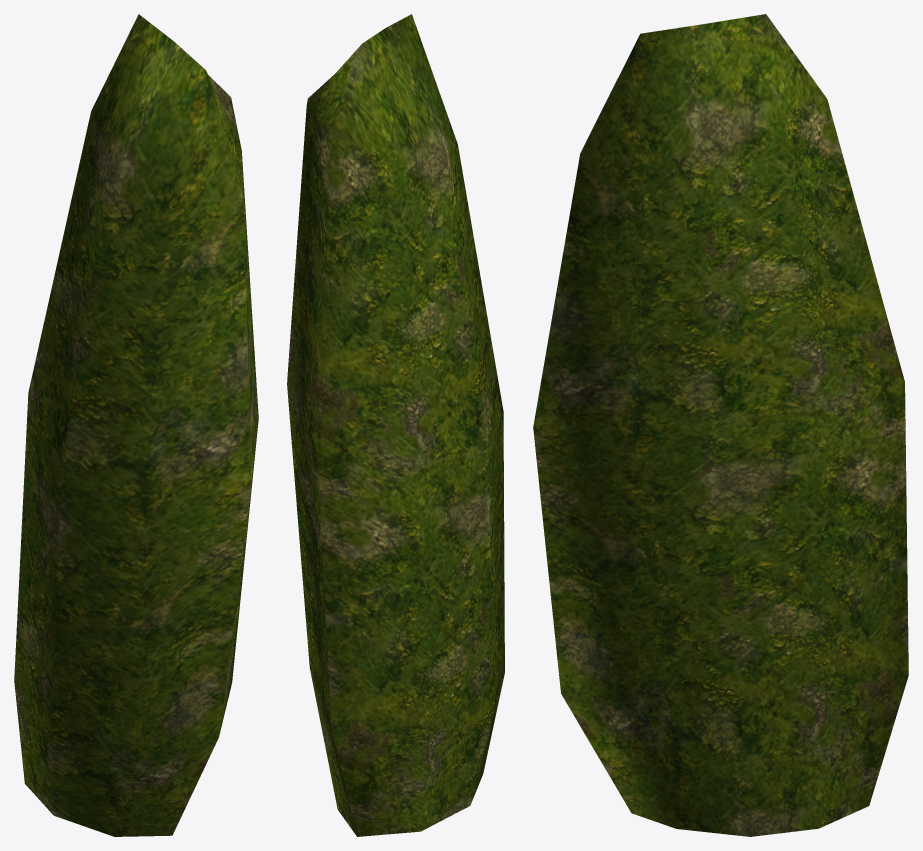
The model's file is OVERHILL_A_01_OBJECT55.fbx.
3 renders of one model, left to right at view 1: azimuth 30°, elevation 25°; view 2: azimuth 150°, elevation 25°; view 3: azimuth 270°, elevation 25°, orthographic. The views are drawn at different scales.
Visible parts, largest first — view 1: OVERHILL_A_01_OBJECT55; view 2: OVERHILL_A_01_OBJECT55; view 3: OVERHILL_A_01_OBJECT55.
Part boxes in pixels (x1=…): OVERHILL_A_01_OBJECT55: x1=14, y1=14, x2=258, y2=836; OVERHILL_A_01_OBJECT55: x1=287, y1=14, x2=504, y2=836; OVERHILL_A_01_OBJECT55: x1=533, y1=14, x2=908, y2=836.
Bounding box in the file's own units: 24907 × 95062 × 39719.
1 material, 1 textured.
